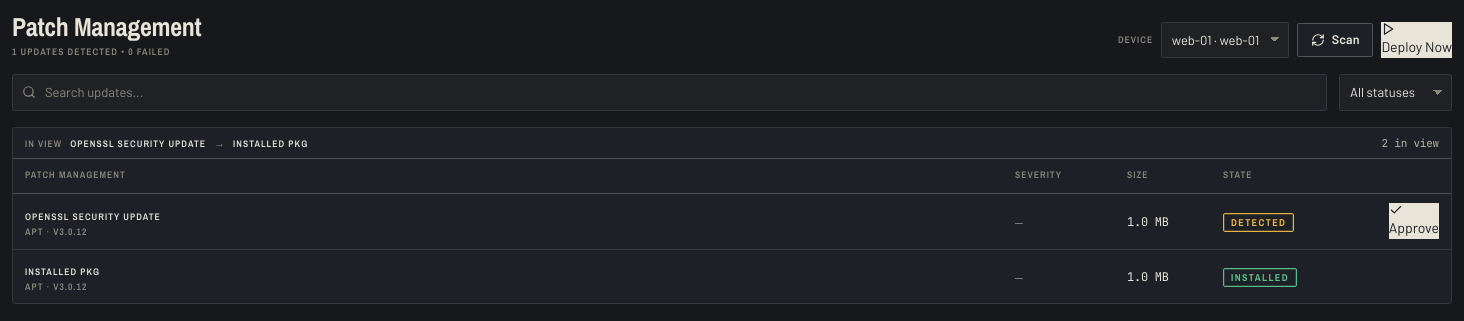
it: Patches page › filters updates by status
Select "Installed" in the dropdown named "filter by status" at coordinates (1396, 92), box [1339,74,1452,111]
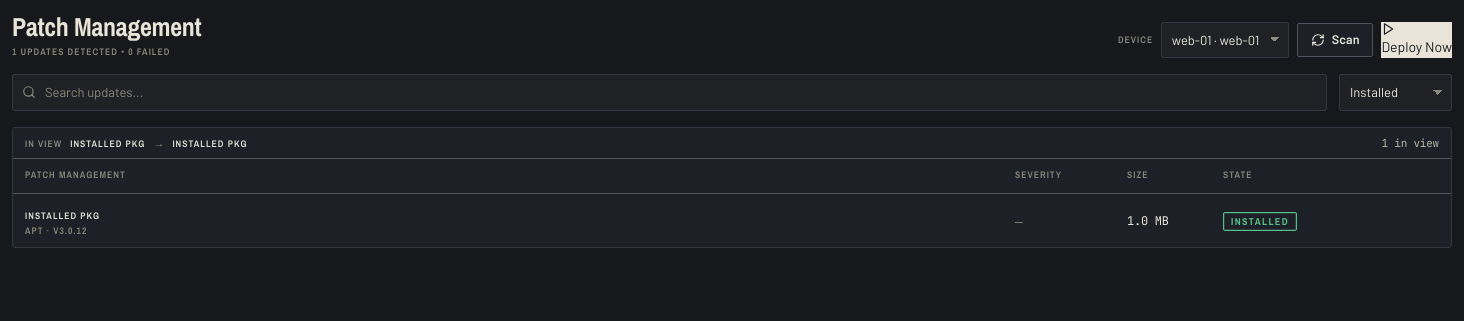
Result: the text "openssl security update" is not shown
Result: the 1st text "installed pkg" is shown at [70,138,145,150]
